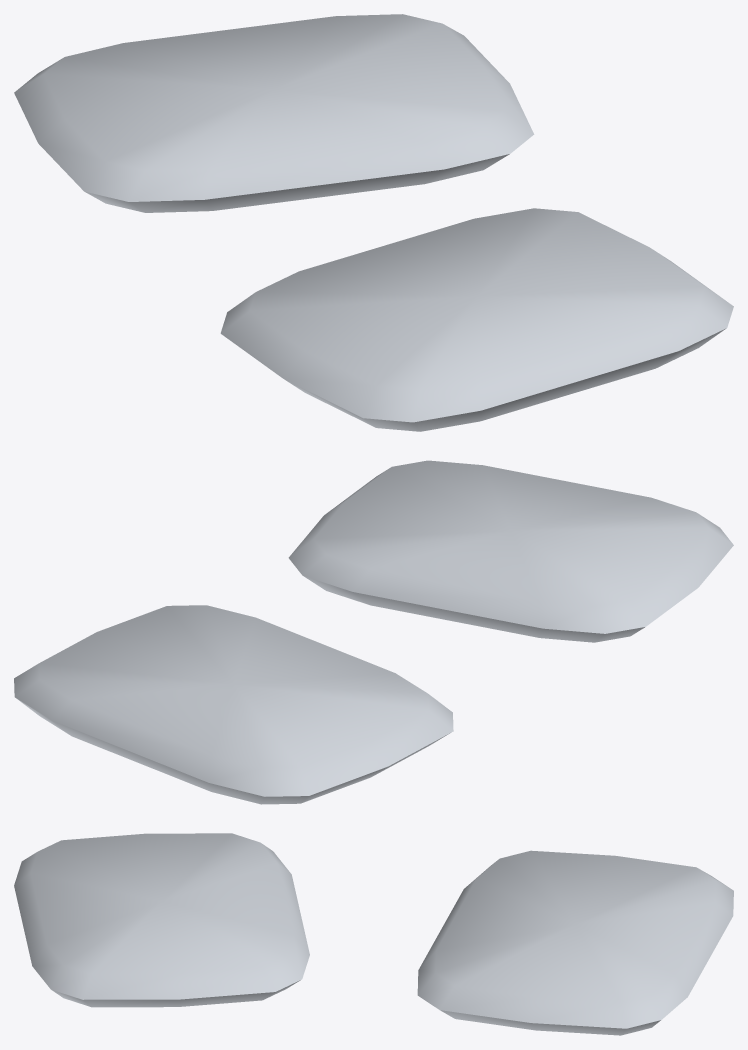
Rendered from caminho_pedras_1m.glb.
The picture shows the model from 3 angles, top to bottom: view 1: azimuth 30°, elevation 25°; view 2: azimuth 150°, elevation 25°; view 3: azimuth 270°, elevation 25°; orthographic projection. The views are drawn at different scales.
Parts seen in each view (by area): view 1: caminho_pedras_1m; view 2: caminho_pedras_1m; view 3: caminho_pedras_1m.
Part boxes in pixels (<box>): caminho_pedras_1m: <box>14,14,733,431</box>; caminho_pedras_1m: <box>14,460,733,804</box>; caminho_pedras_1m: <box>14,833,733,1035</box>.
Size of the model in its own units: 0.5371 by 0.05 by 0.87.
Materials: 1 (1 with a texture image).
